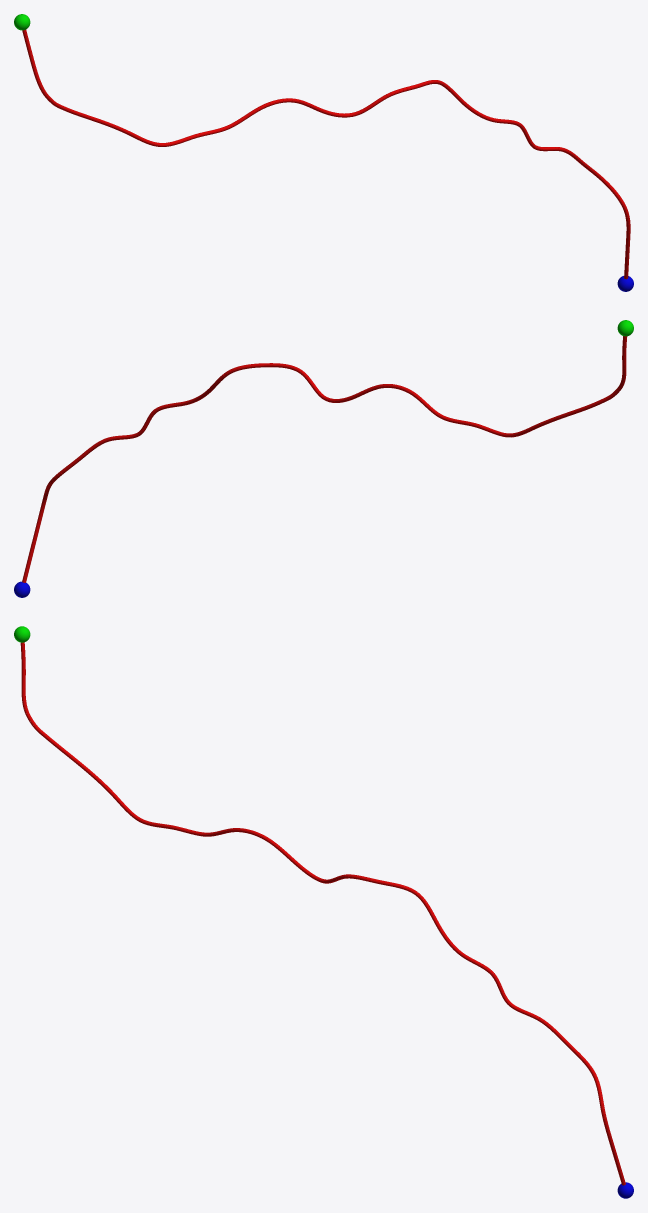
The model's file is paths.obj.
The picture shows the model from 3 angles, top to bottom: view 1: azimuth 30°, elevation 25°; view 2: azimuth 150°, elevation 25°; view 3: azimuth 330°, elevation 25°; orthographic projection.
Size of the model in its own units: 1.74 by 1.14 by 0.1258.
